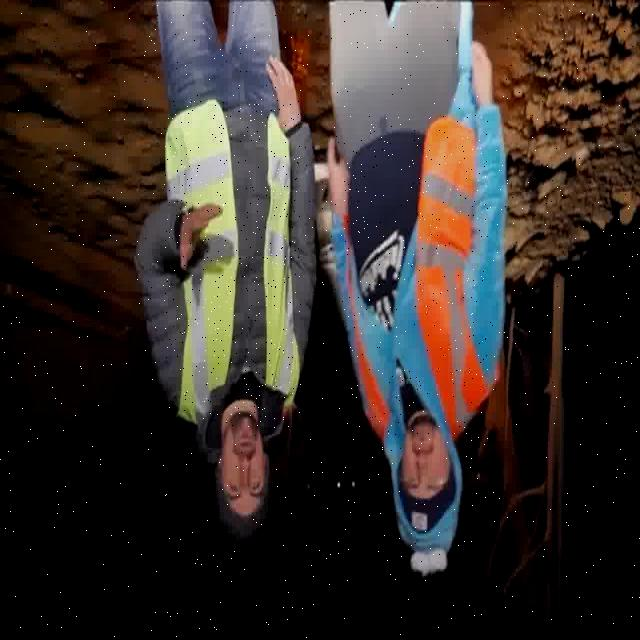Vest: (344, 111, 488, 445), (164, 99, 302, 427)
